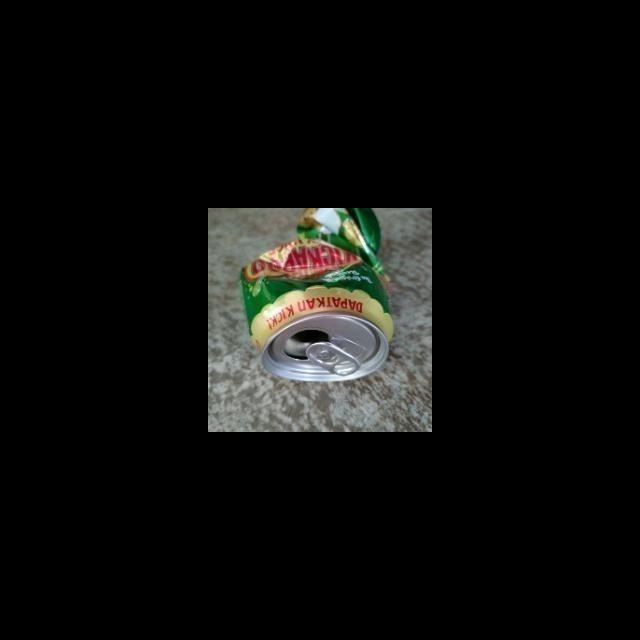metal: (238, 208, 397, 383)
